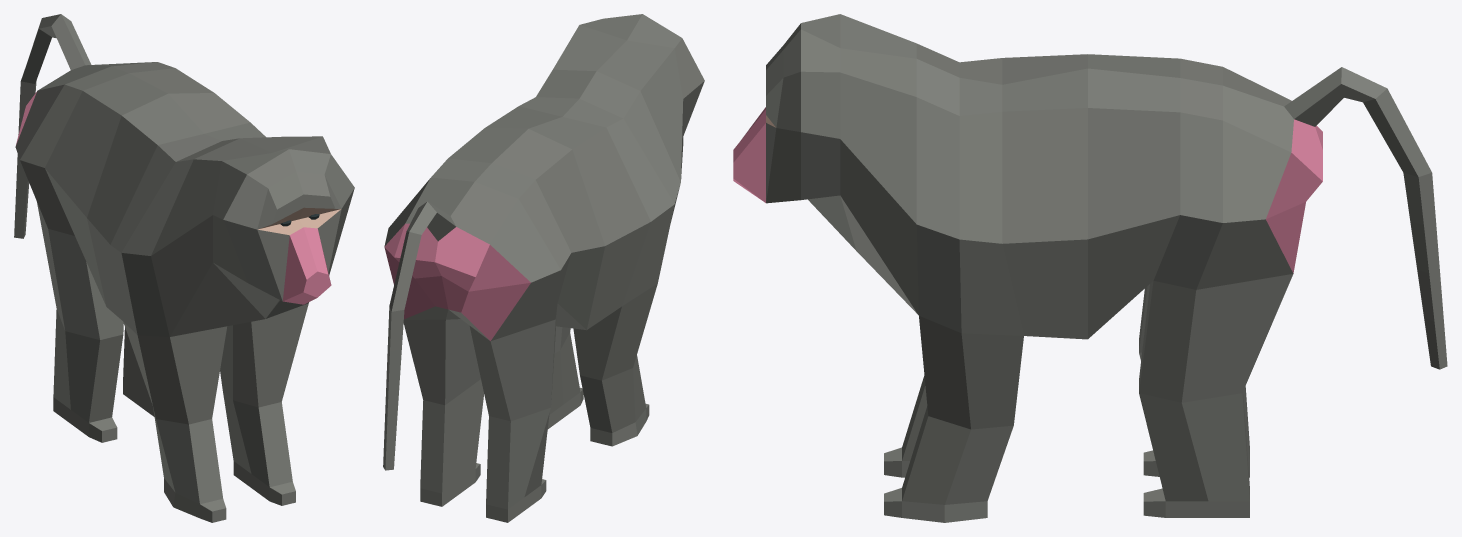
Rendered from Baboon.fbx.
3 renders of one model, left to right at view 1: azimuth 30°, elevation 25°; view 2: azimuth 150°, elevation 25°; view 3: azimuth 270°, elevation 25°, orthographic. The views are drawn at different scales.
Visible parts, largest first — view 1: Baboon; view 2: Baboon; view 3: Baboon.
Boxes of the visible parts, box(x1,y1,x2,y2) form: Baboon: box(14, 14, 354, 522); Baboon: box(383, 14, 704, 522); Baboon: box(733, 14, 1447, 522).
Bounding box in the file's own units: 1.29 × 2.38 × 3.34.
